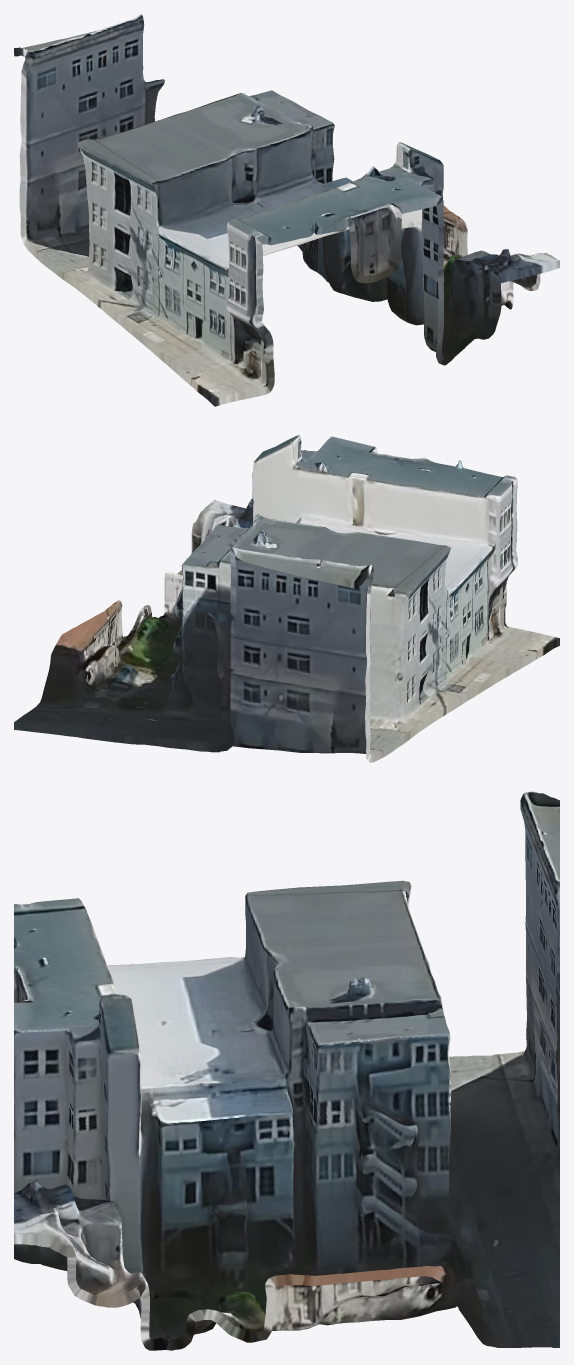
Rendered from z20-167736-405199-h0-yup-uvflip-v3-world.glb.
3 renders of one model, top to bottom at view 1: azimuth 30°, elevation 25°; view 2: azimuth 150°, elevation 25°; view 3: azimuth 270°, elevation 25°, orthographic. The views are drawn at different scales.
Size of the model in its own units: 30.16 by 20.2 by 30.32.
Materials: 1 (1 with a texture image).
